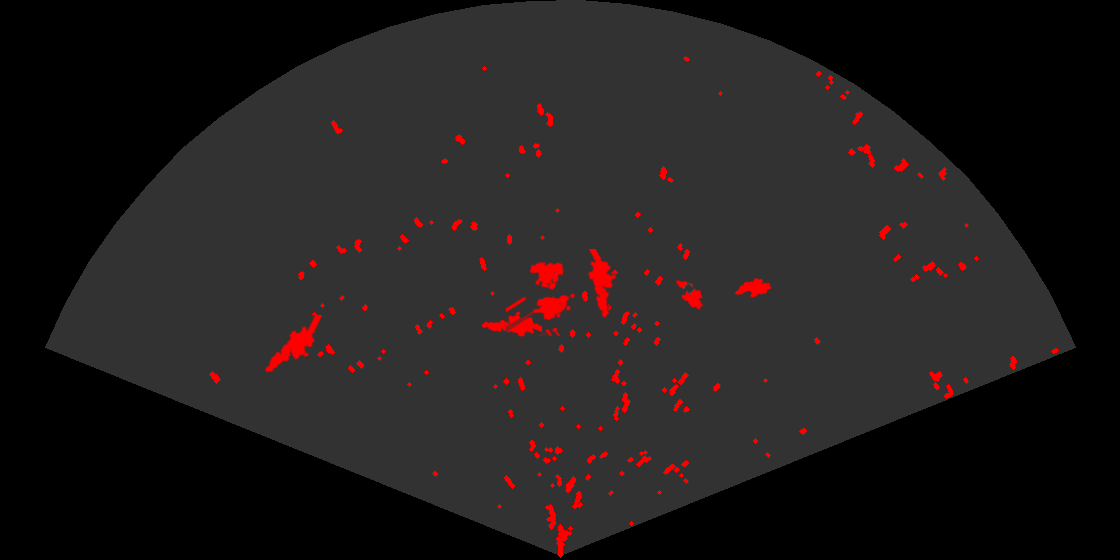AUV: (674, 278, 704, 311), (733, 276, 773, 299)
cage: (506, 260, 577, 336)
frogman: (263, 315, 324, 374), (587, 249, 618, 319), (480, 310, 542, 338)
